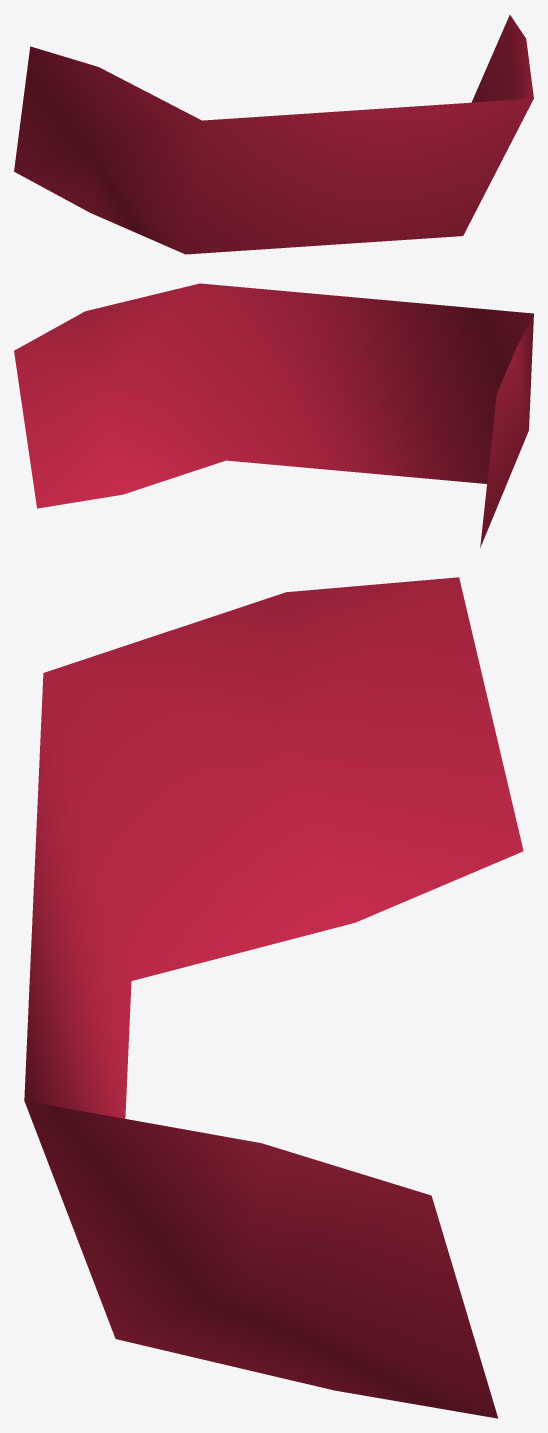
3 renders of one model, top to bottom at view 1: azimuth 30°, elevation 25°; view 2: azimuth 150°, elevation 25°; view 3: azimuth 270°, elevation 25°, orthographic. The views are drawn at different scales.
Parts seen in each view (by area): view 1: ef_413; view 2: ef_413; view 3: ef_413.
Part boxes in pixels (<box>): ef_413: <box>14,15,533,254</box>; ef_413: <box>14,283,533,547</box>; ef_413: <box>24,577,523,1418</box>.
Bounding box in the file's own units: 0.9389 × 0.4177 × 0.4292.
1 material, 1 textured.
